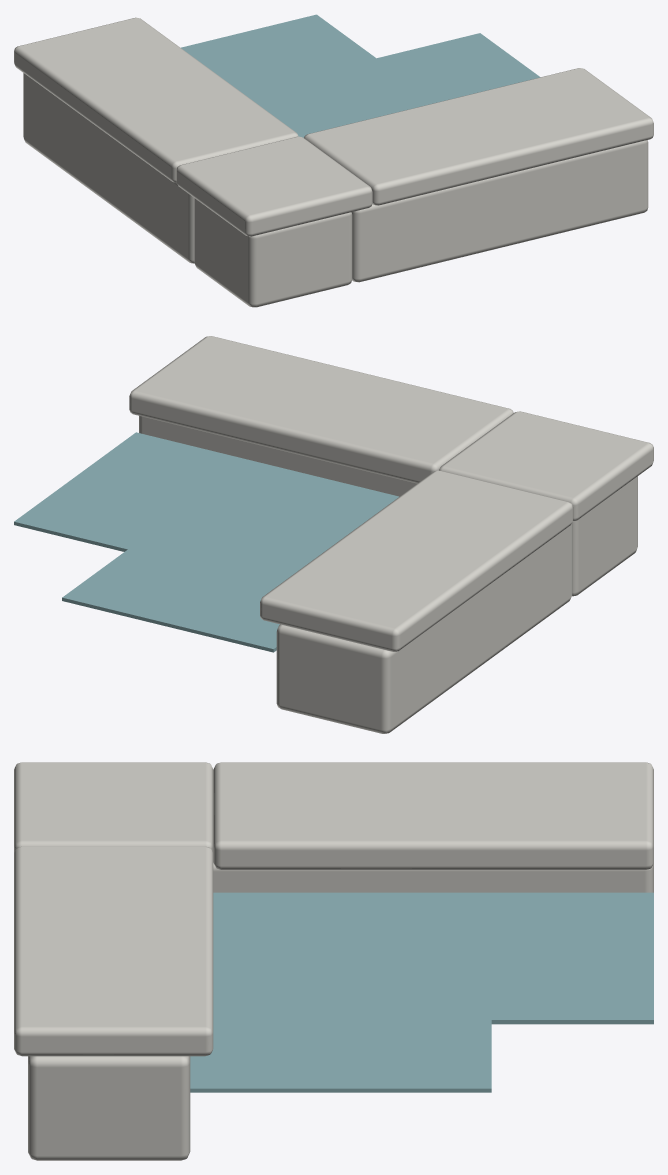
The model's file is lotus-pond-edge-corner.glb.
The picture shows the model from 3 angles, top to bottom: view 1: azimuth 30°, elevation 25°; view 2: azimuth 150°, elevation 25°; view 3: azimuth 270°, elevation 25°; orthographic projection. The views are drawn at different scales.
Parts seen in each view (by area): view 1: lotus-pond-edge-corner; view 2: lotus-pond-edge-corner; view 3: lotus-pond-edge-corner.
Part boxes in pixels (x1,y1,x2,y2): lotus-pond-edge-corner: (14,14,653,307); lotus-pond-edge-corner: (14,336,653,733); lotus-pond-edge-corner: (14,762,653,1160).
Bounding box in the file's own units: 2.76 × 0.6398 × 2.76.
